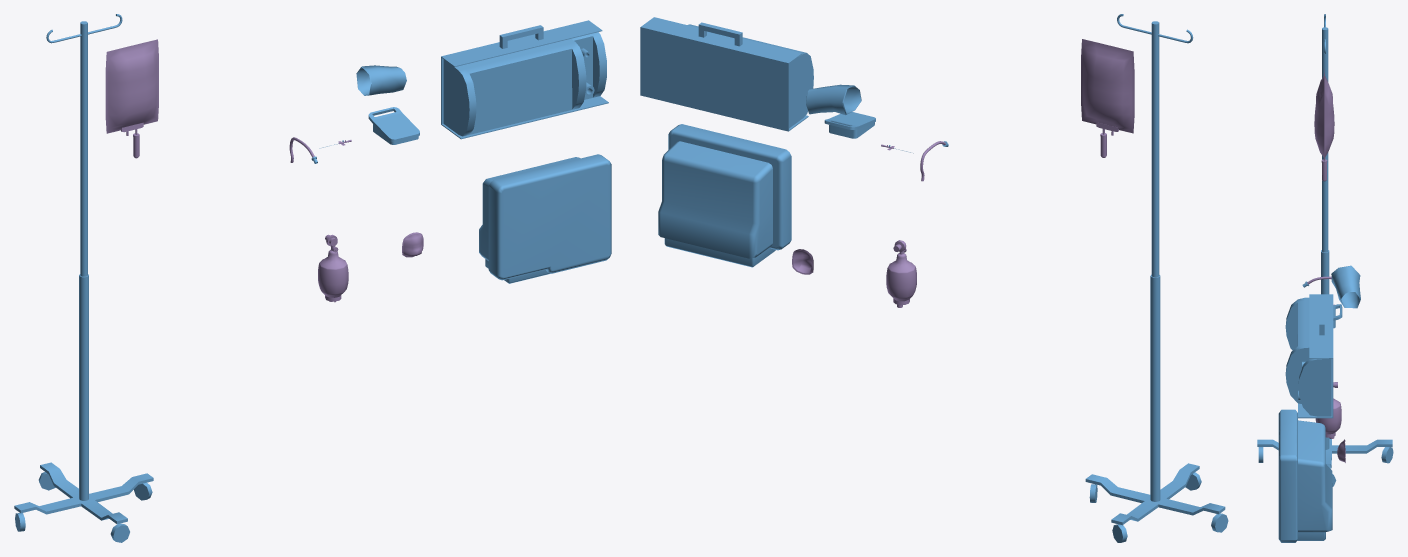
File: SM_PropsPack_03a.fbx
3 views of the same model, side by side, from view 1: azimuth 30°, elevation 25°; view 2: azimuth 150°, elevation 25°; view 3: azimuth 270°, elevation 25° (orthographic). The views are drawn at different scales.
Visible parts, largest first — view 1: SM_Manshem_01, SM_Monitor_01, SM_IV_Pole_Bot, IV_Bag, SM_IV_Pole_Top, SM_Respirator_Balloon_01, SM_BloodPressure_Hand_01, SM_BloodPressure_01; view 2: SM_Monitor_01, SM_Manshem_01, SM_IV_Pole_Bot, IV_Bag, SM_IV_Pole_Top, SM_BloodPressure_Hand_01, SM_Respirator_Balloon_01, SM_BloodPressure_01; view 3: SM_Monitor_01, SM_Manshem_01, SM_IV_Pole_Bot, IV_Bag, SM_BloodPressure_Hand_01, SM_IV_Pole_Top, SM_Respirator_Balloon_01.
Boxes of the visible parts, x1=… form: SM_Manshem_01: x1=441, y1=20, x2=608, y2=139; SM_Monitor_01: x1=479, y1=154, x2=611, y2=283; SM_IV_Pole_Bot: x1=14, y1=274, x2=153, y2=542; IV_Bag: x1=105, y1=39, x2=158, y2=133; SM_IV_Pole_Top: x1=46, y1=14, x2=122, y2=276; SM_Respirator_Balloon_01: x1=318, y1=234, x2=348, y2=302; SM_BloodPressure_Hand_01: x1=356, y1=65, x2=406, y2=95; SM_BloodPressure_01: x1=368, y1=107, x2=419, y2=144; SM_Monitor_01: x1=658, y1=124, x2=791, y2=267; SM_Manshem_01: x1=640, y1=17, x2=813, y2=131; SM_IV_Pole_Bot: x1=1085, y1=274, x2=1228, y2=542; IV_Bag: x1=1081, y1=39, x2=1134, y2=133; SM_IV_Pole_Top: x1=1117, y1=14, x2=1193, y2=277; SM_BloodPressure_Hand_01: x1=806, y1=84, x2=861, y2=115; SM_Respirator_Balloon_01: x1=886, y1=240, x2=916, y2=307; SM_BloodPressure_01: x1=824, y1=112, x2=875, y2=138; SM_Monitor_01: x1=1278, y1=409, x2=1332, y2=542; SM_Manshem_01: x1=1285, y1=294, x2=1333, y2=418; SM_IV_Pole_Bot: x1=1257, y1=250, x2=1393, y2=486; IV_Bag: x1=1314, y1=69, x2=1334, y2=162; SM_BloodPressure_Hand_01: x1=1331, y1=265, x2=1360, y2=308; SM_IV_Pole_Top: x1=1322, y1=14, x2=1328, y2=252; SM_Respirator_Balloon_01: x1=1315, y1=382, x2=1341, y2=438.
Bounding box in the file's own units: 244 × 199 × 56.61.
